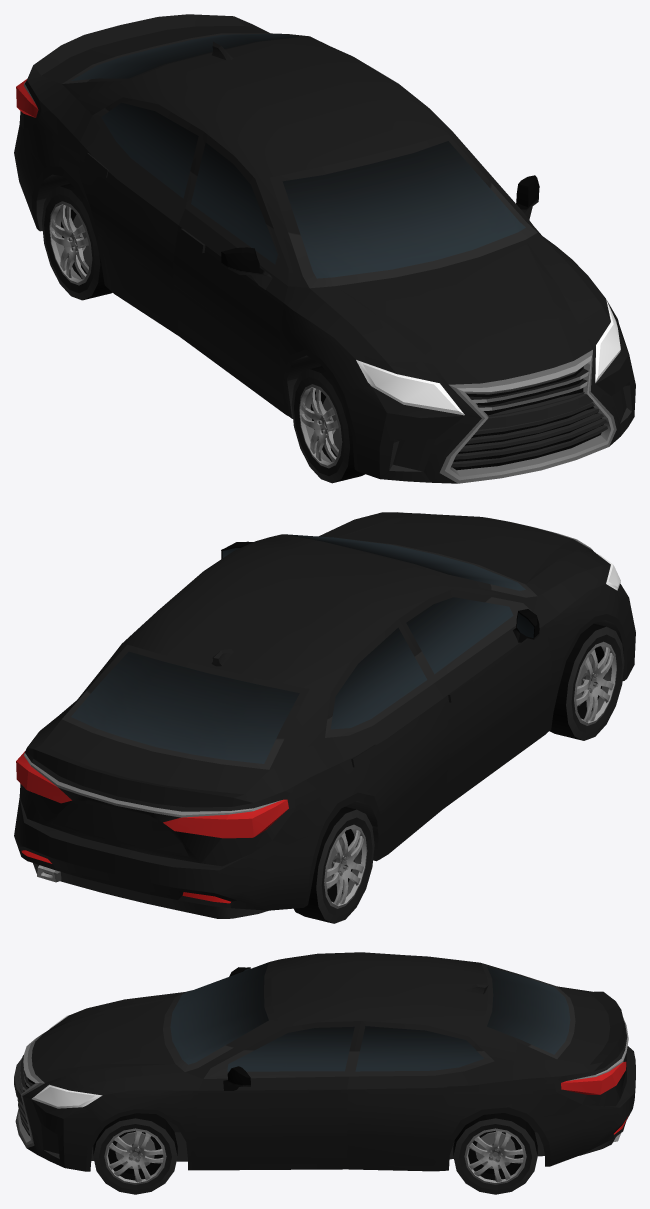
File: Simple_Japanese_Car_V23.fbx
3 renders of one model, top to bottom at view 1: azimuth 30°, elevation 25°; view 2: azimuth 150°, elevation 25°; view 3: azimuth 270°, elevation 25°, orthographic. The views are drawn at different scales.
Visible parts, largest first — view 1: Body.009, FR.010, RR.010; view 2: Body.009, FR.010, RR.010; view 3: Body.009, RL.010, FL.
Boxes of the visible parts, x1,y1,x2,y2 form: Body.009: (14, 14, 635, 483); FR.010: (291, 366, 364, 483); RR.010: (42, 183, 112, 300); Body.009: (14, 512, 635, 918); FR.010: (549, 623, 624, 740); RR.010: (294, 807, 374, 923); Body.009: (14, 952, 635, 1171); RL.010: (453, 1113, 537, 1194); FL: (93, 1113, 177, 1194).
Bounding box in the file's own units: 2.03 × 1.44 × 4.83.
Materials: 4 (4 with a texture image).
